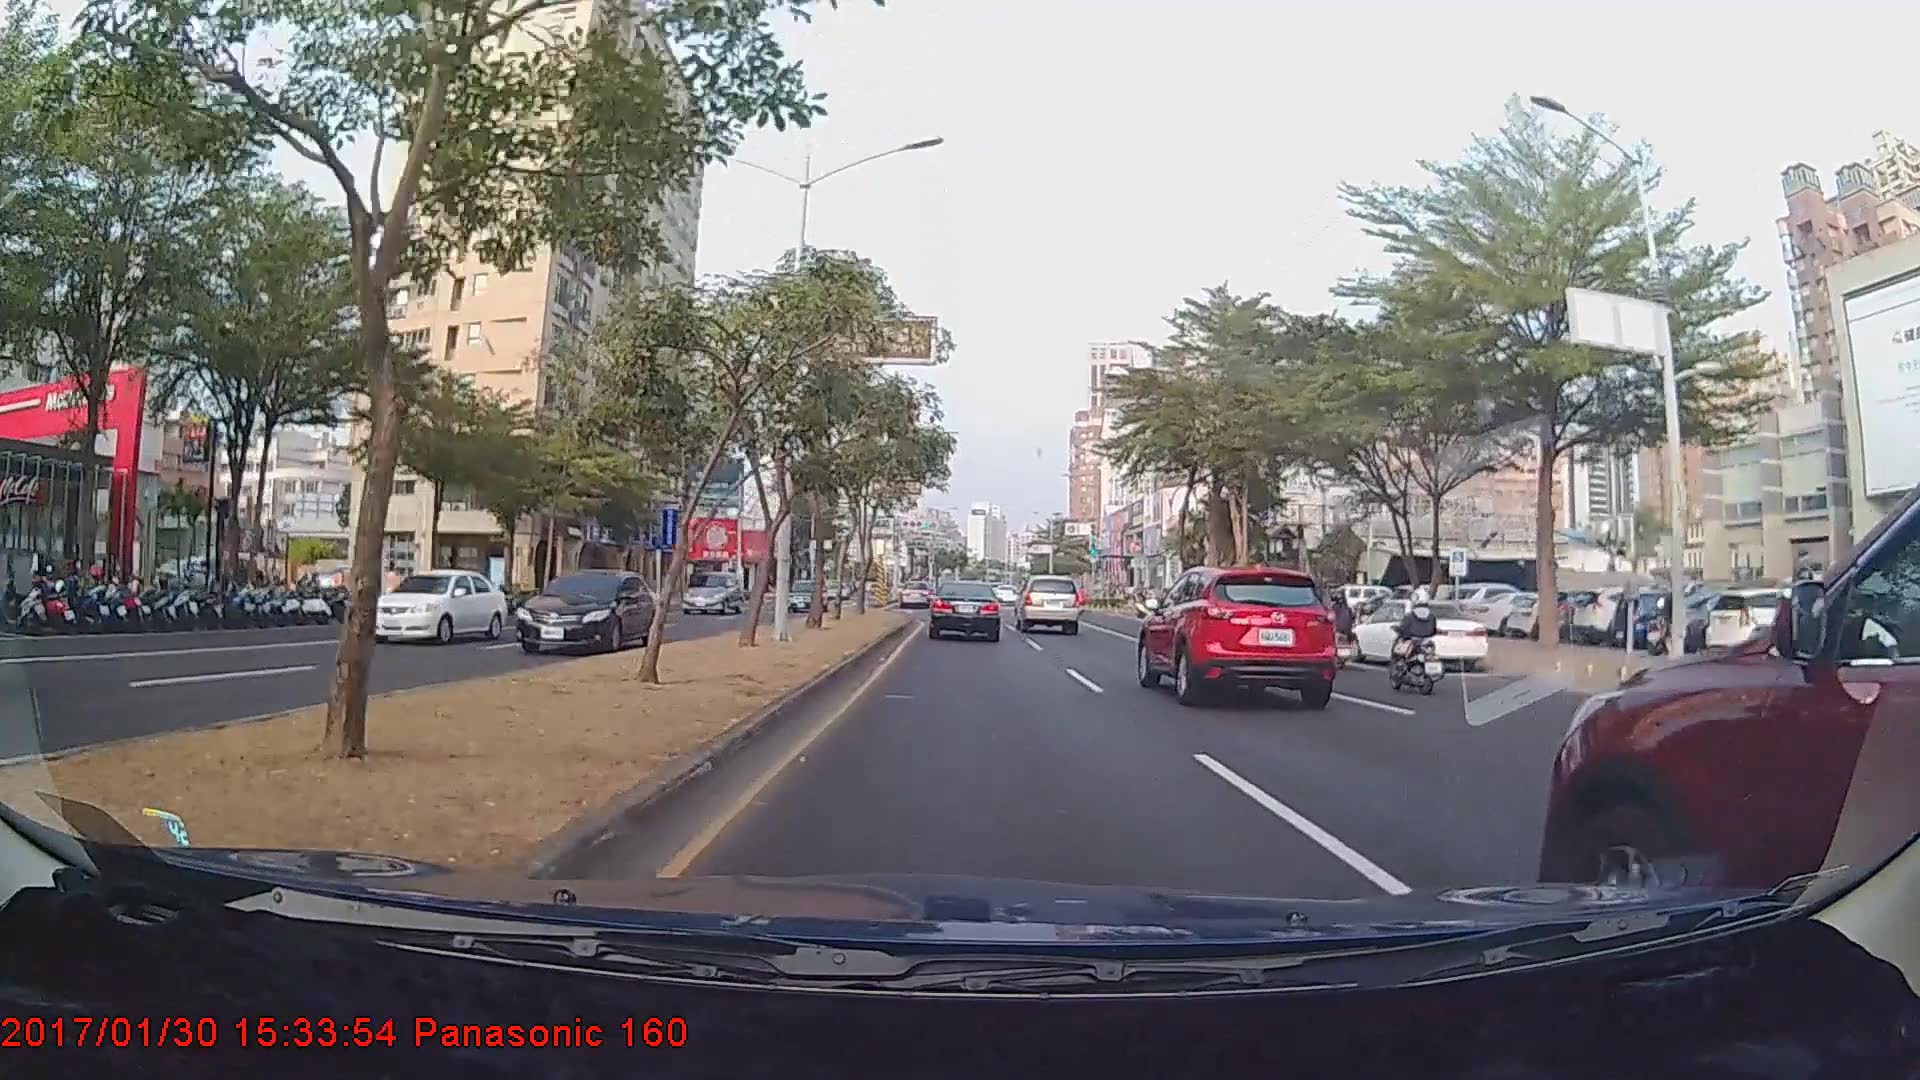rider: (1378, 586, 1449, 696)
vehicle: (1538, 441, 1920, 996), (1136, 560, 1340, 706), (515, 568, 662, 653), (1344, 596, 1488, 671), (364, 571, 505, 644), (927, 580, 1002, 642), (1014, 575, 1081, 635), (677, 570, 745, 614), (787, 580, 829, 615), (898, 580, 932, 610)
